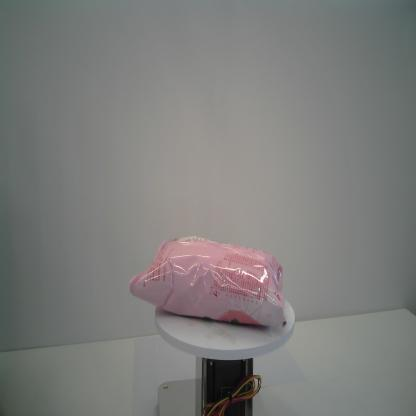Puffed Food: (128, 233, 288, 330)
